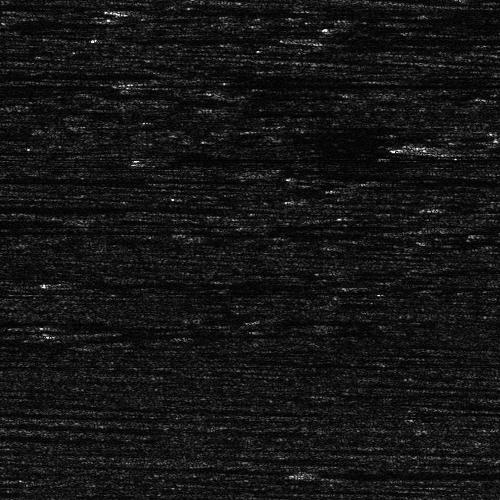rock: (40, 328, 123, 339), (8, 277, 101, 286), (299, 469, 362, 478), (283, 34, 346, 43), (126, 80, 167, 85)
shadow: (82, 328, 401, 339), (0, 217, 326, 224), (0, 227, 251, 236), (55, 277, 292, 286), (0, 199, 193, 210), (331, 469, 500, 478), (315, 34, 480, 43), (0, 172, 115, 183), (0, 326, 87, 333), (147, 80, 227, 85), (0, 290, 32, 295)
